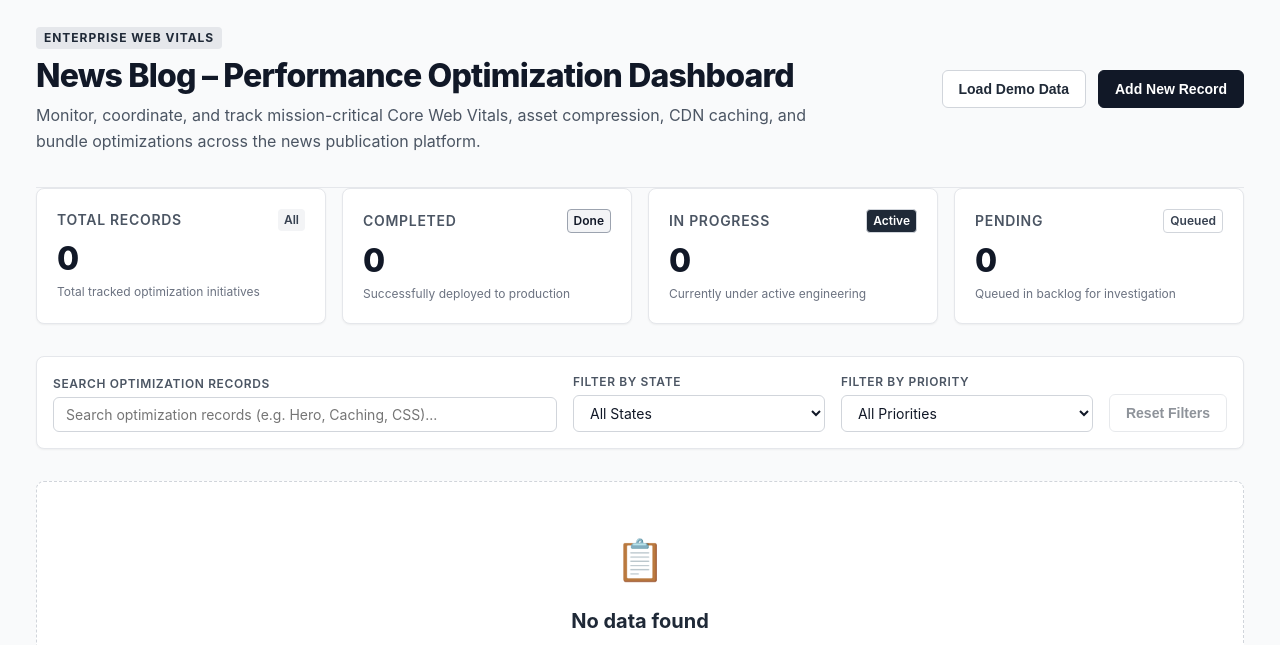
Scenario: B. Record Management Requirements › validates required fields and displays accessible error messages
Click the button "Add New Record".
click(1171, 89)  # box [1098,70,1244,108]
(page scrolled)
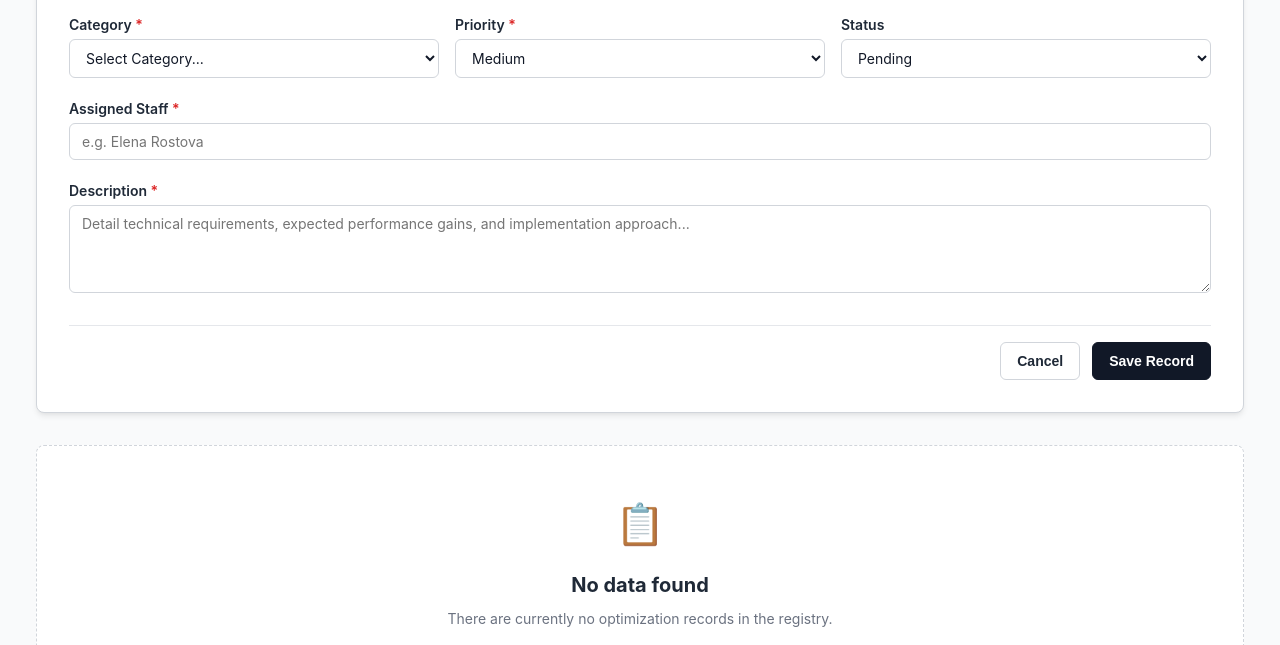
Click the button "Save Record".
click(1152, 361)  # box [1092,342,1211,380]
(page scrolled)
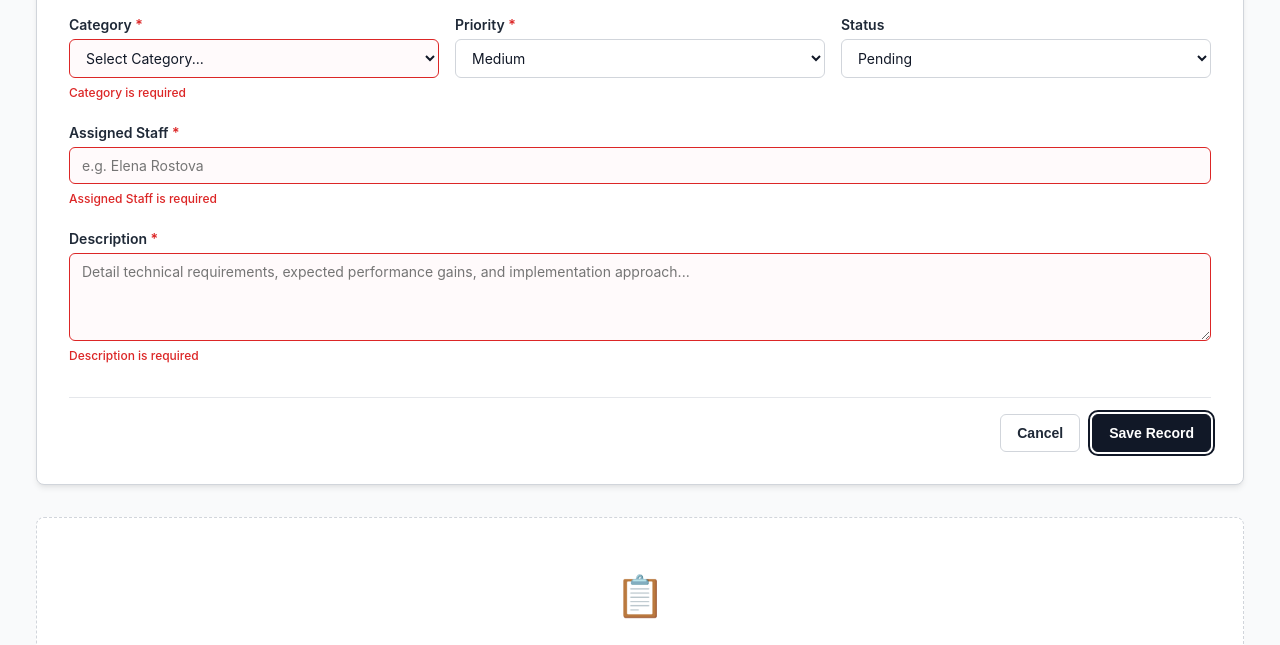
Expected: the text "Category is required" is shown, [69,85,186,100]
Expected: the text "Assigned Staff is required" is shown, [69,191,217,206]
Expected: the text "Description is required" is shown, [69,348,199,363]
